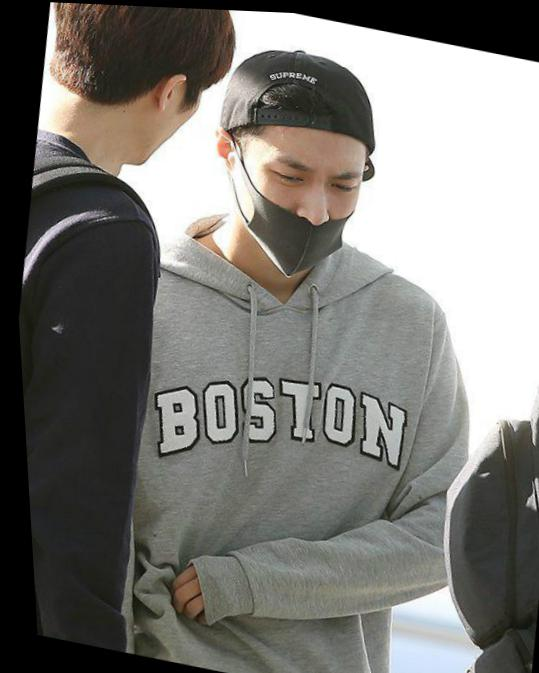WRONG: (233, 127, 368, 284)
